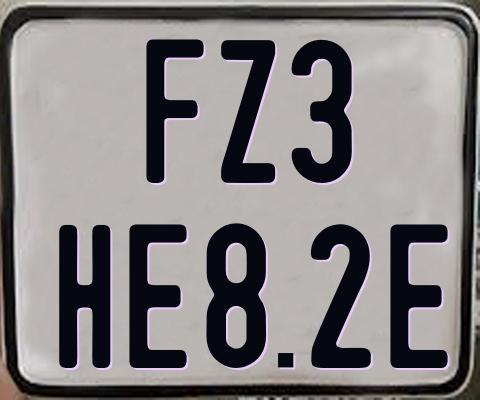2: (310, 222, 372, 371)
3: (290, 40, 352, 189)
8: (206, 223, 270, 370)
E: (126, 222, 189, 370), (390, 223, 452, 369)
F: (145, 37, 205, 186)
H: (58, 224, 110, 367)
Z: (219, 38, 278, 182)
